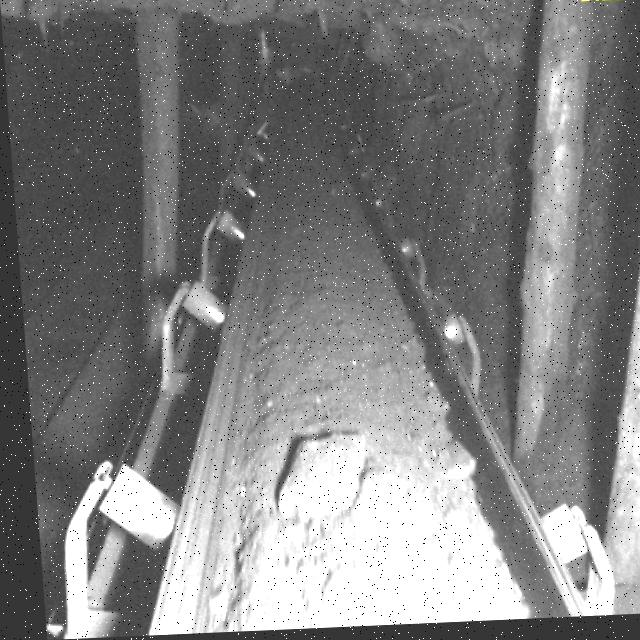large_sized_coal: (266, 431, 367, 520)
